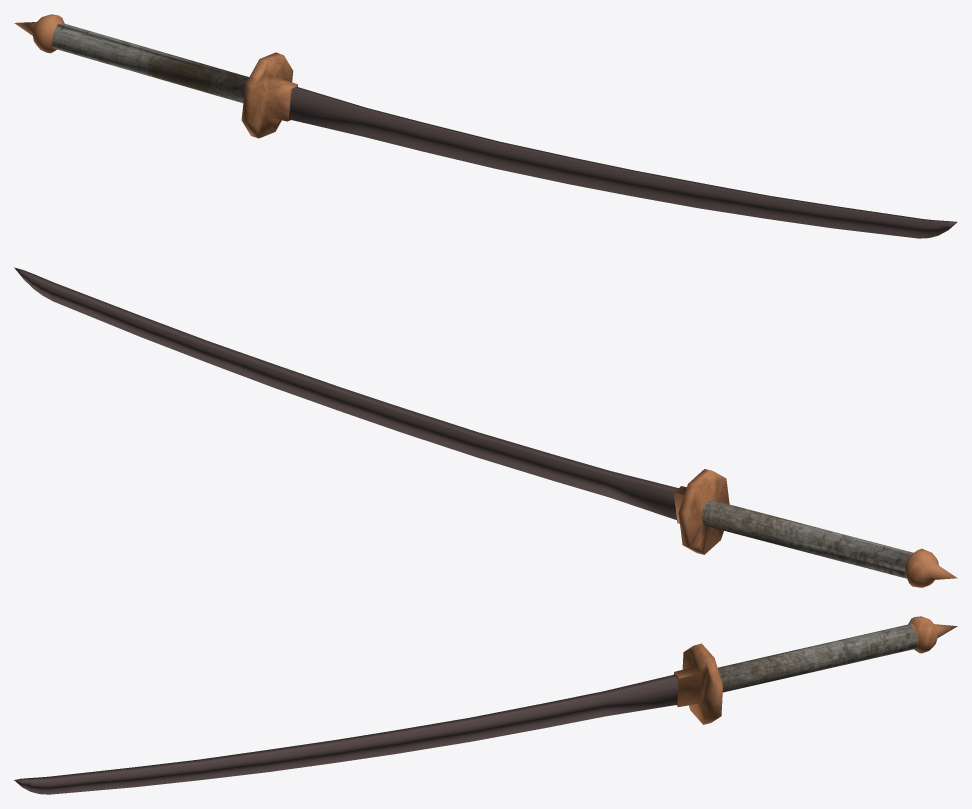
The model's file is Anim_idle_katana_objetos.0015.obj.
3 views of the same model, one above another, from view 1: azimuth 30°, elevation 25°; view 2: azimuth 210°, elevation 25°; view 3: azimuth 270°, elevation 25° (orthographic). The views are drawn at different scales.
Parts seen in each view (by area): view 1: Katana1; view 2: Katana1; view 3: Katana1.
Boxes of the visible parts, x1,y1,x2,y2 form: Katana1: (14, 14, 957, 238); Katana1: (14, 267, 957, 587); Katana1: (14, 616, 957, 794).
Bounding box in the file's own units: 2.46 × 0.5154 × 4.75.
